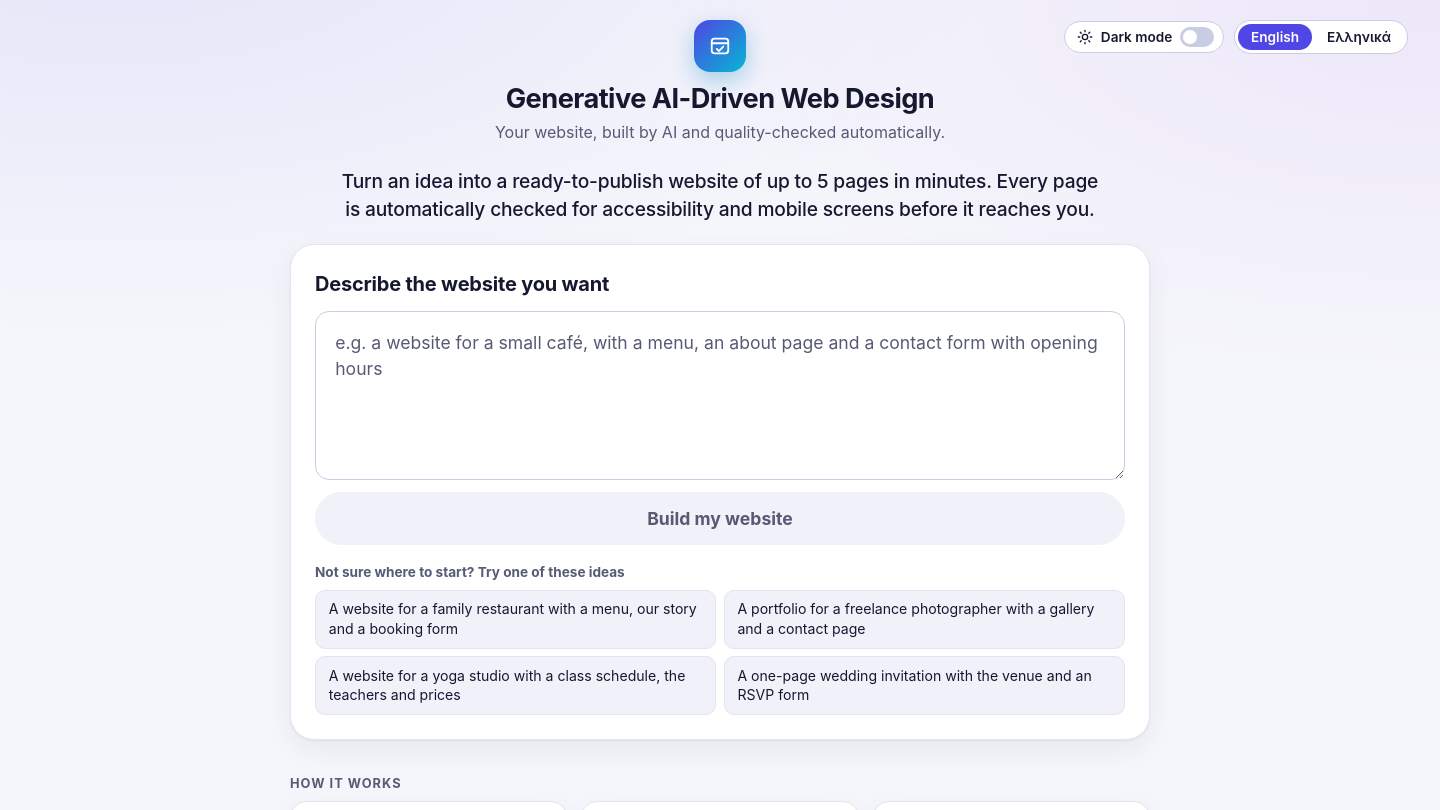
Test: App › shows the error message when generatePage rejects
Replace the text in the text box labelled "Describe the website you want" with "a bakery contact page" at (720, 396), box [315,311,1125,480]
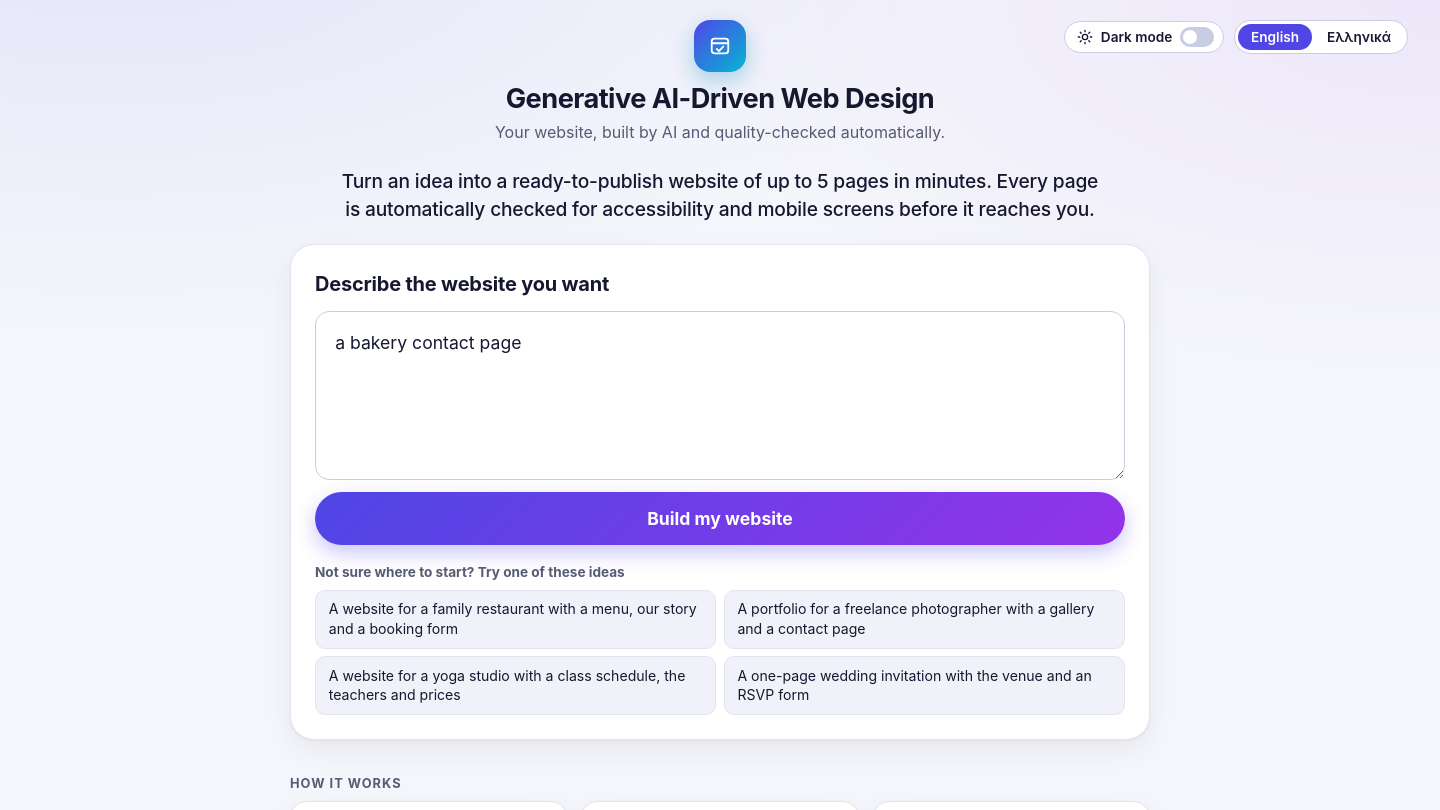
Submit the form, box [315,269,1125,715]
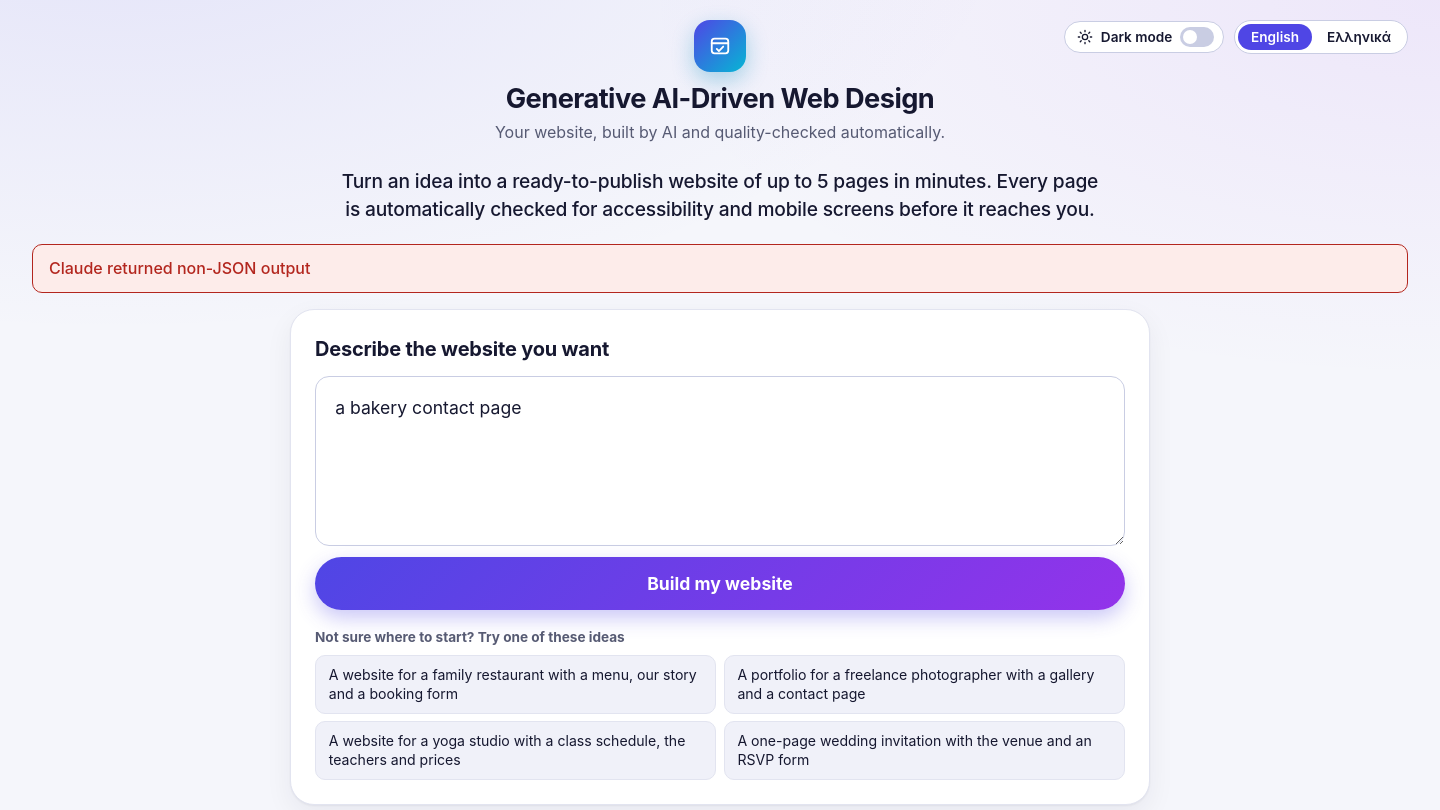
Check: the text "Claude returned non-JSON output" is shown, box [32,244,1408,293]
